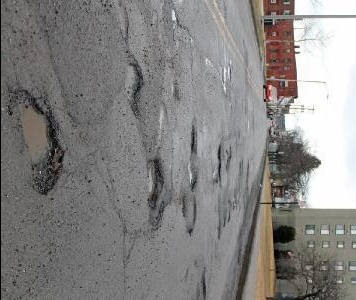pothole: (15, 86, 66, 196), (122, 60, 145, 118), (145, 155, 167, 209), (185, 157, 198, 190), (215, 141, 224, 180), (189, 122, 199, 156)
